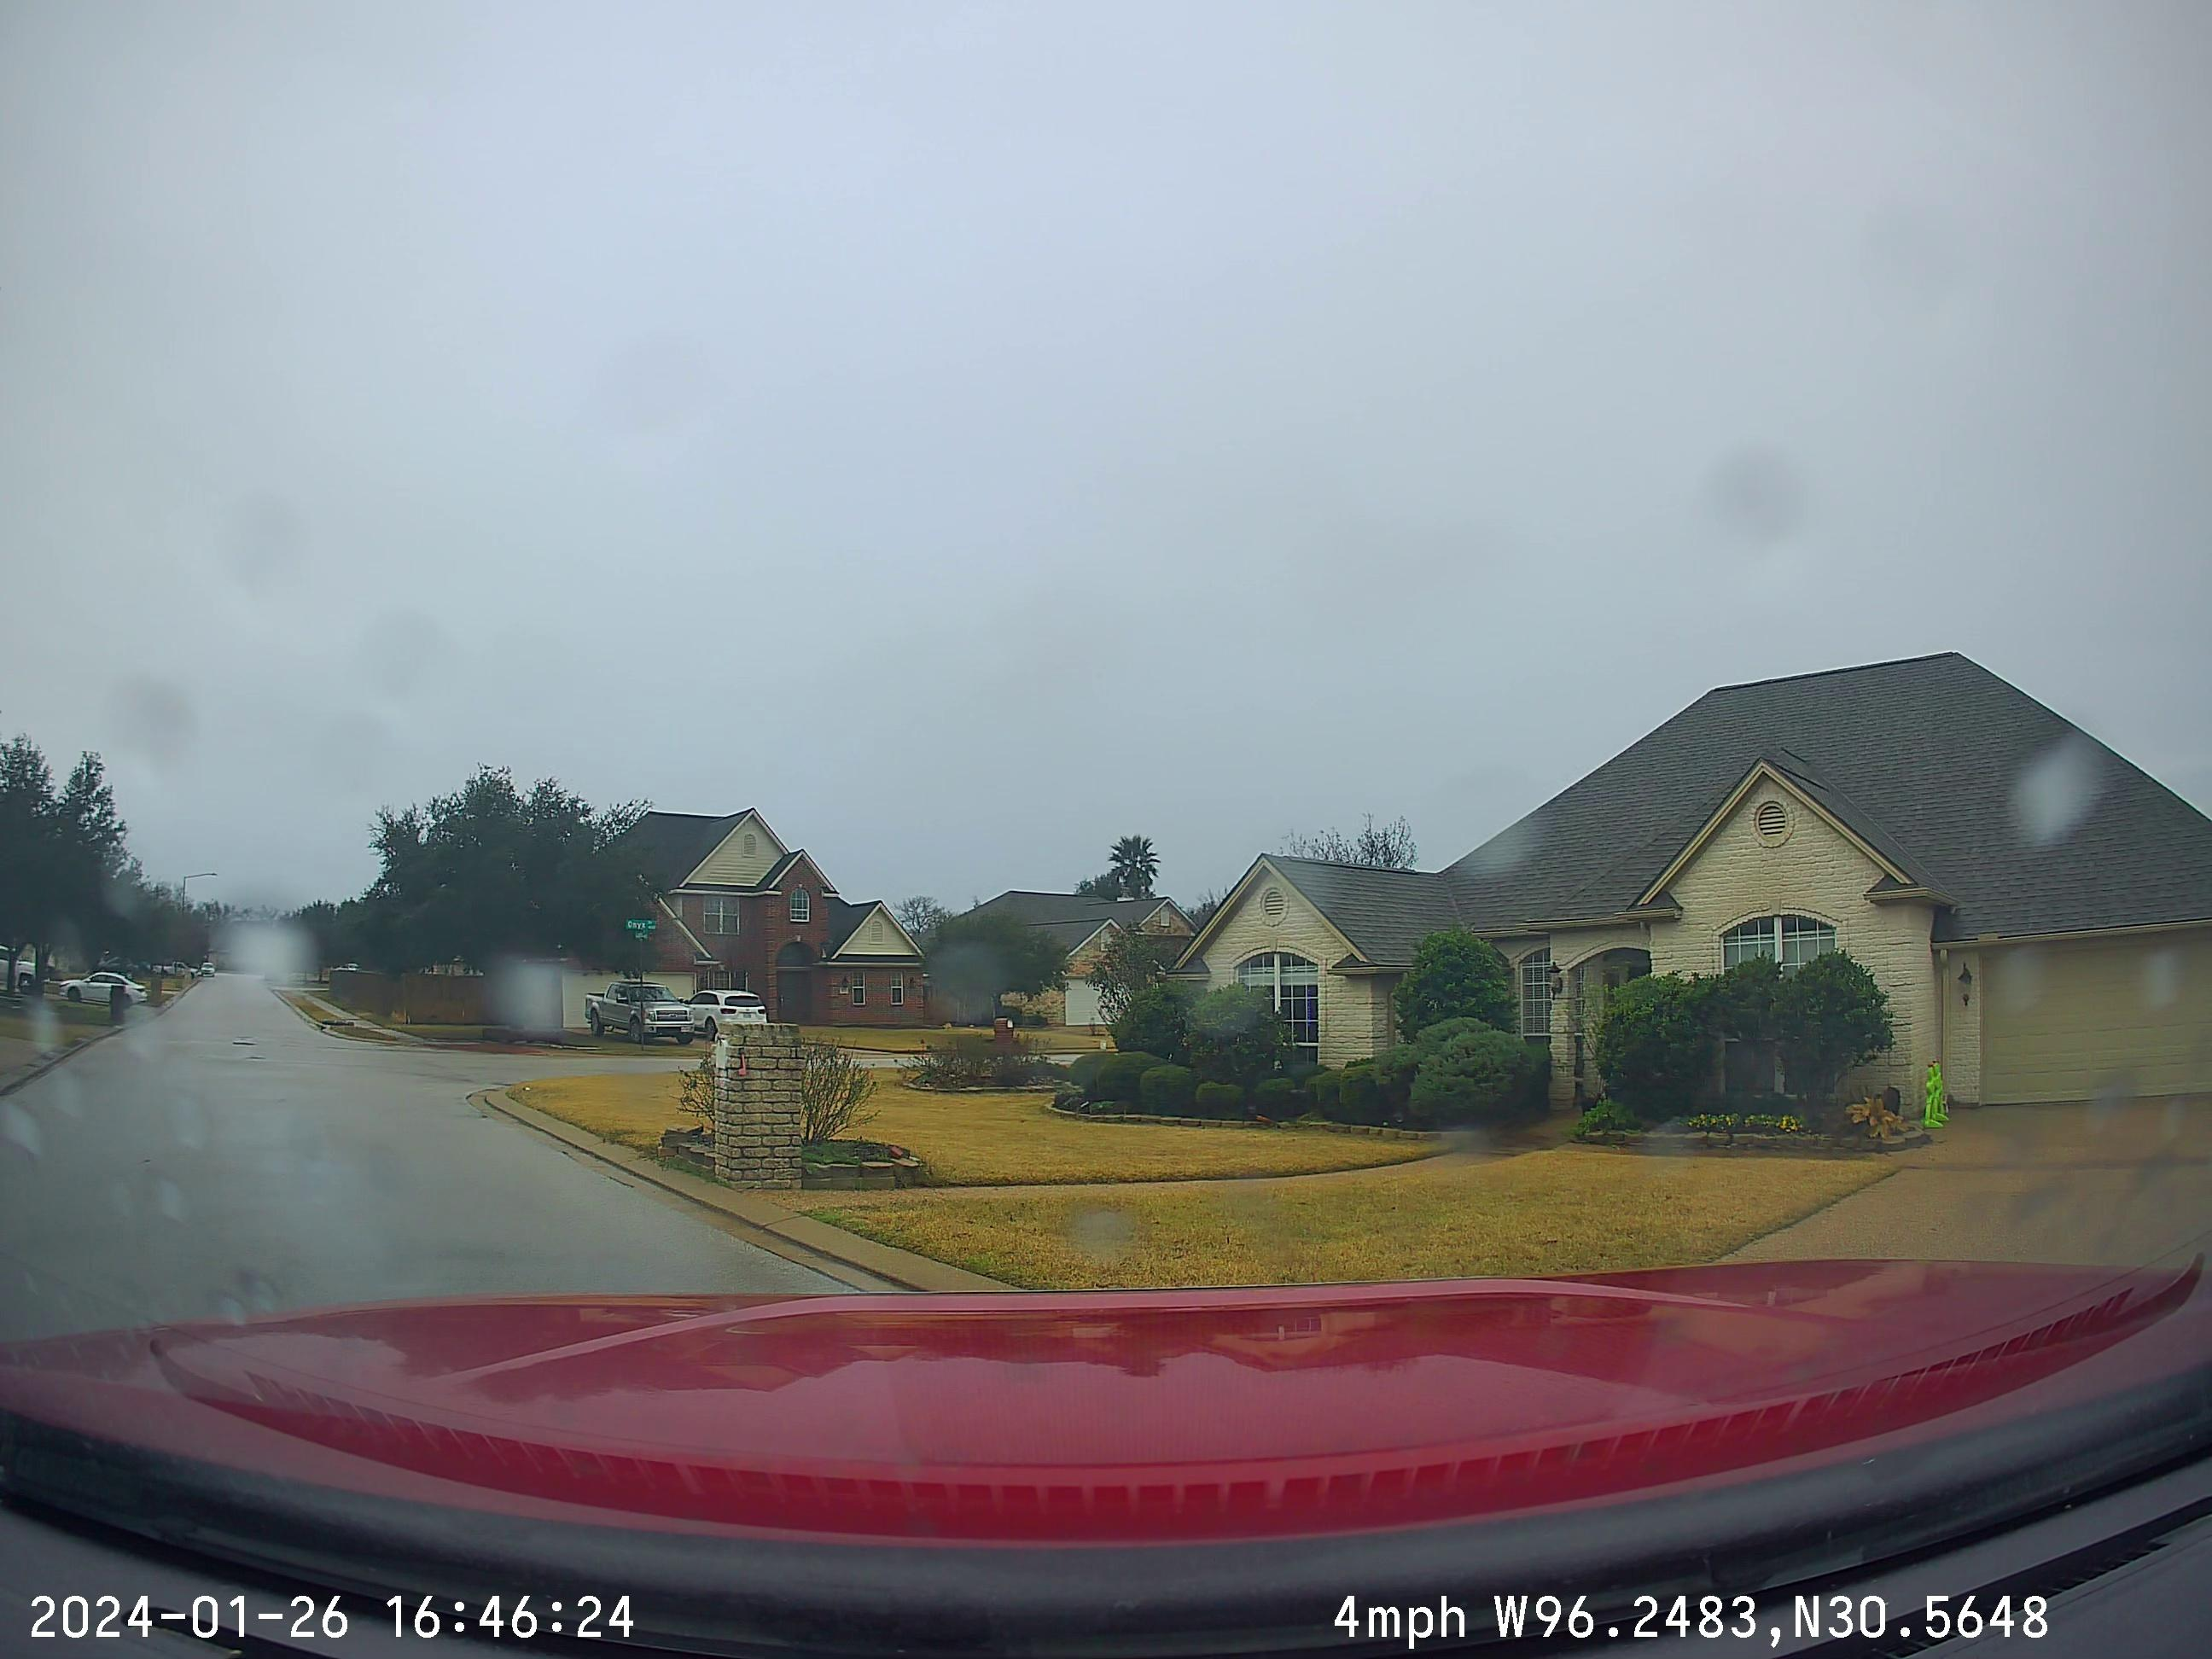car: (0, 1261, 2211, 1651)
truck: (585, 980, 766, 1043)
